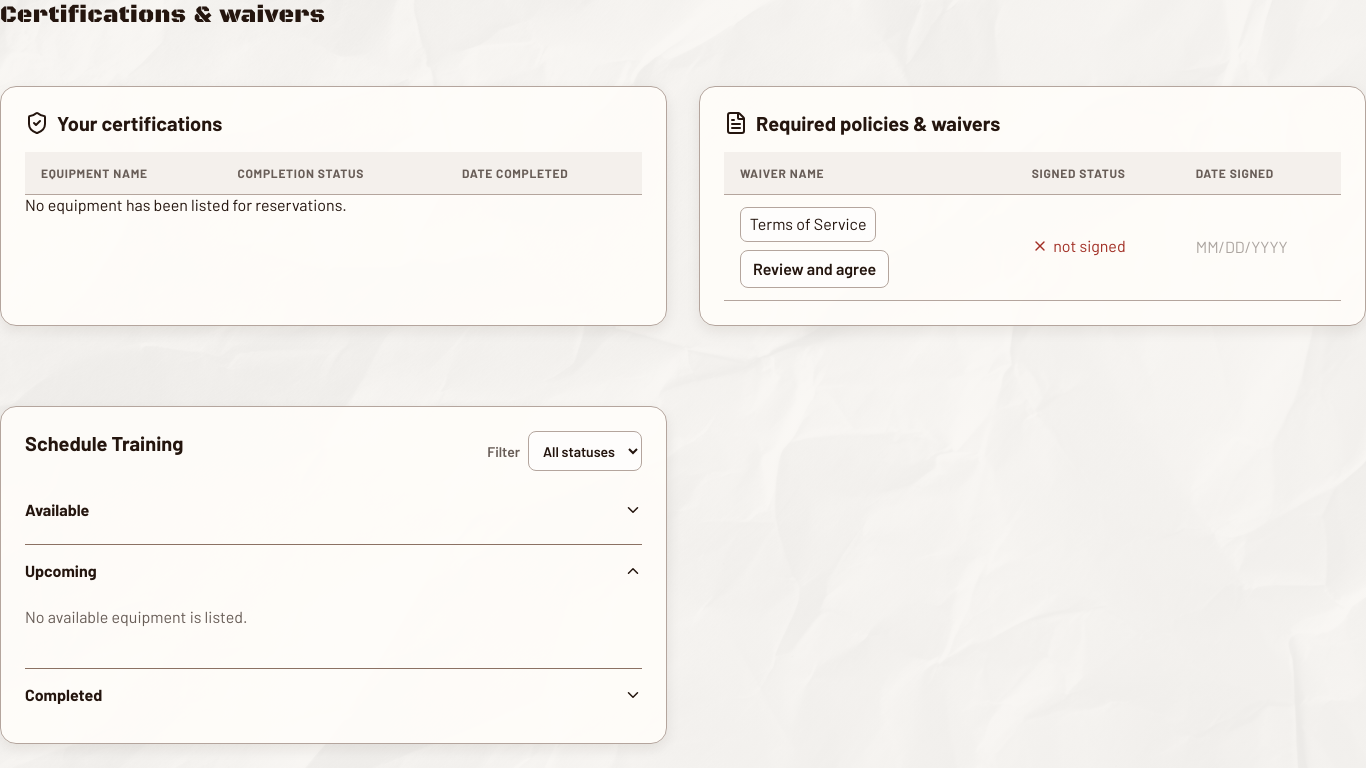
Test: demo waiver table preserves Terms acceptance and completed status after the UI merge
Step 1. Click the button "Review and agree" → (815,269), box [740,250,889,288]
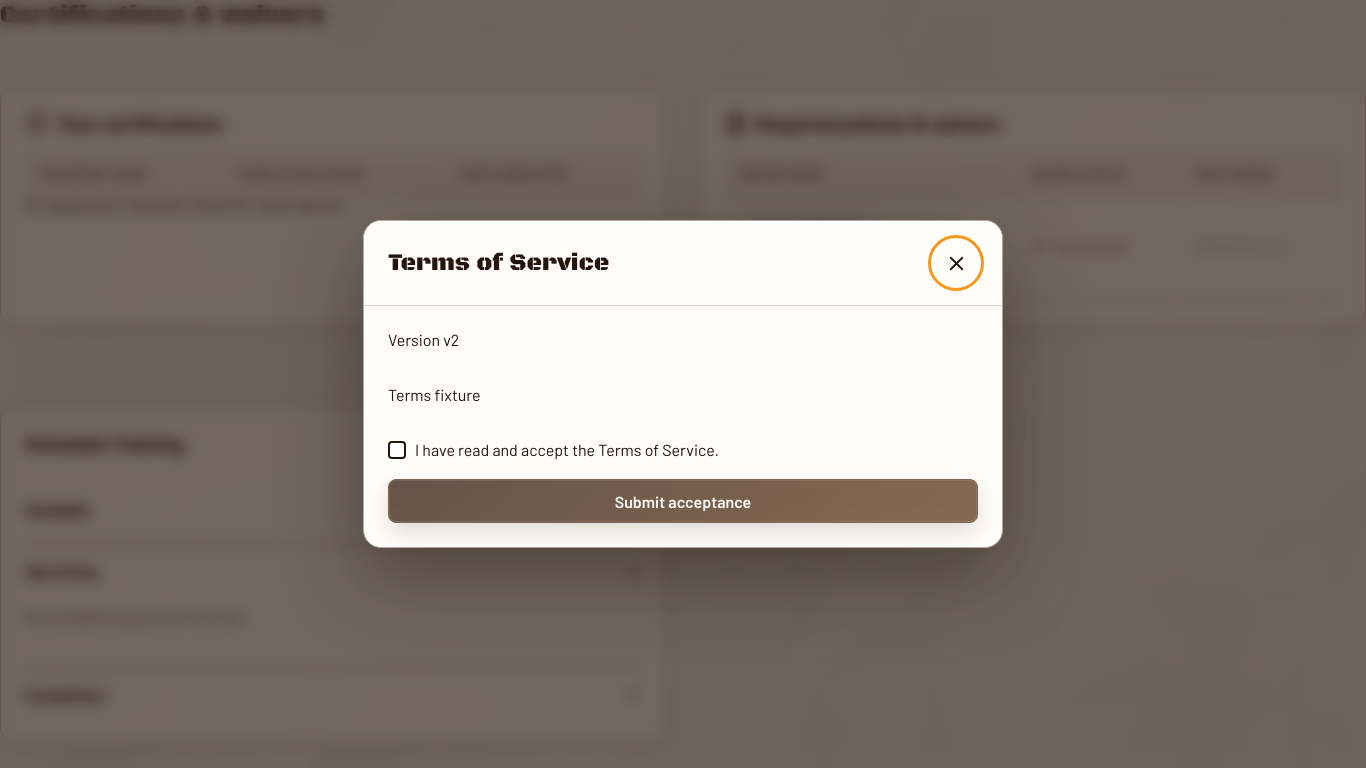
Expected: the button "Submit acceptance" is disabled, [388,479,978,523]
Step 2. Click the checkbox labelled "I have read and accept the Terms of Service." → (553,450), box [388,440,719,459]
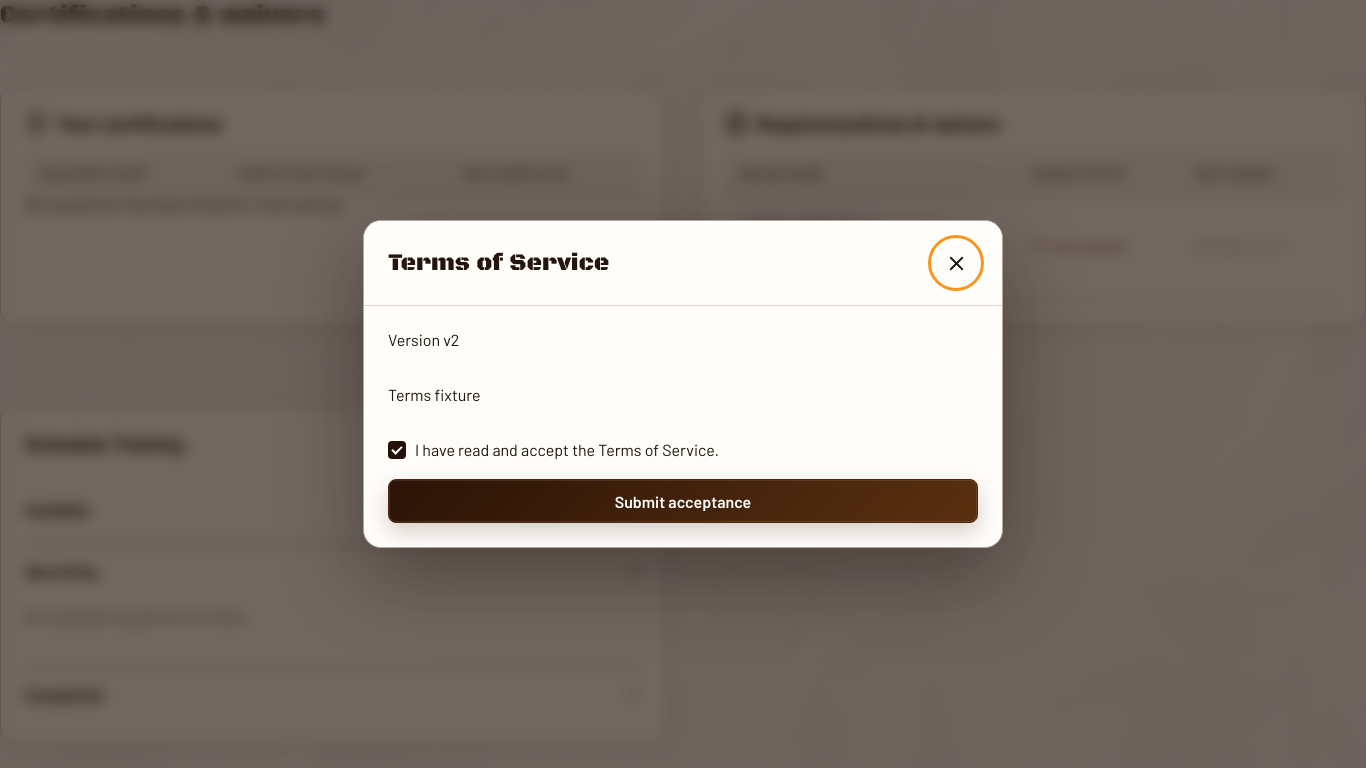
Step 3. Click the button "Submit acceptance" → (683,501), box [388,479,978,523]
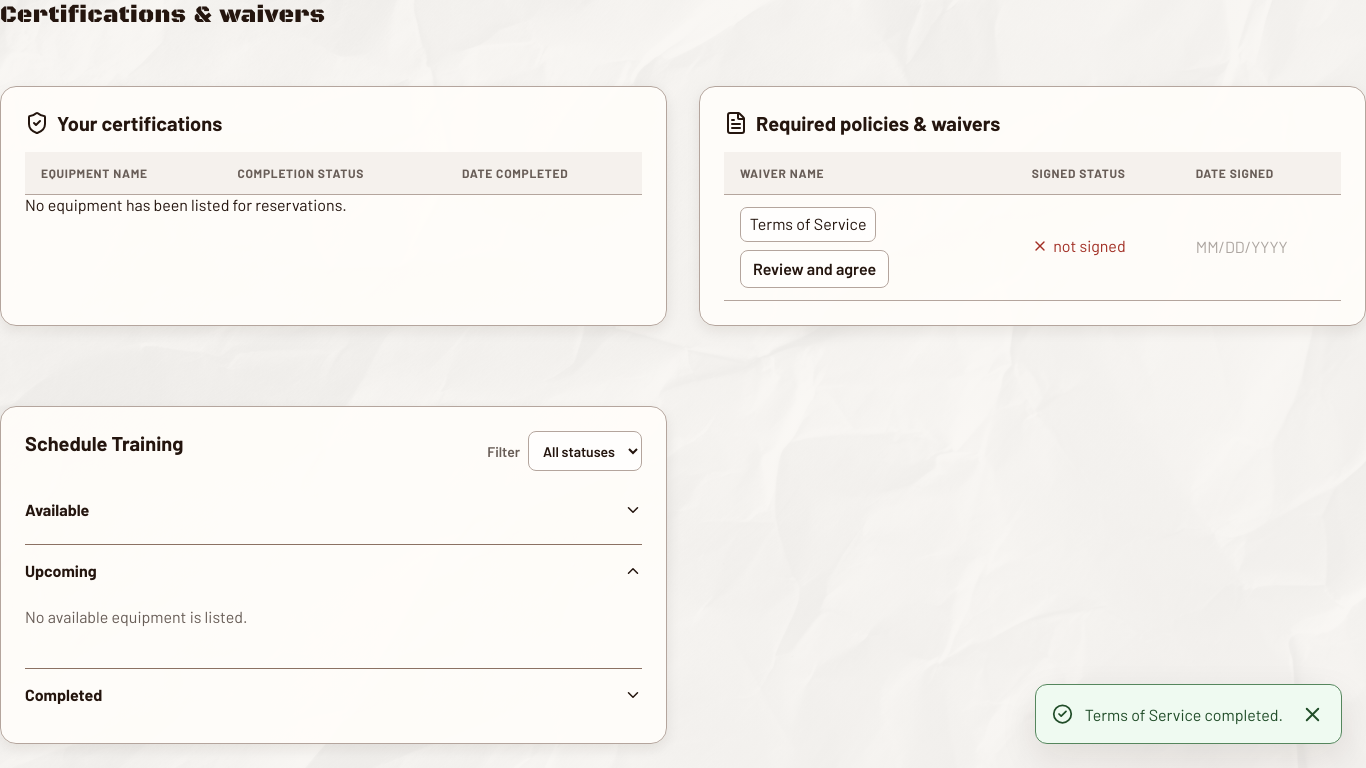
Expected: the text "Terms of Service completed." is shown, [1085,704,1283,724]
